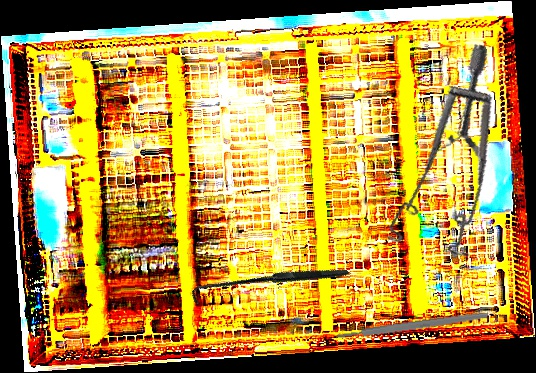Hook Surgical: (188, 205, 351, 366)
Scalpel Handle: (335, 310, 489, 341)
Speculum: (351, 42, 529, 273)
